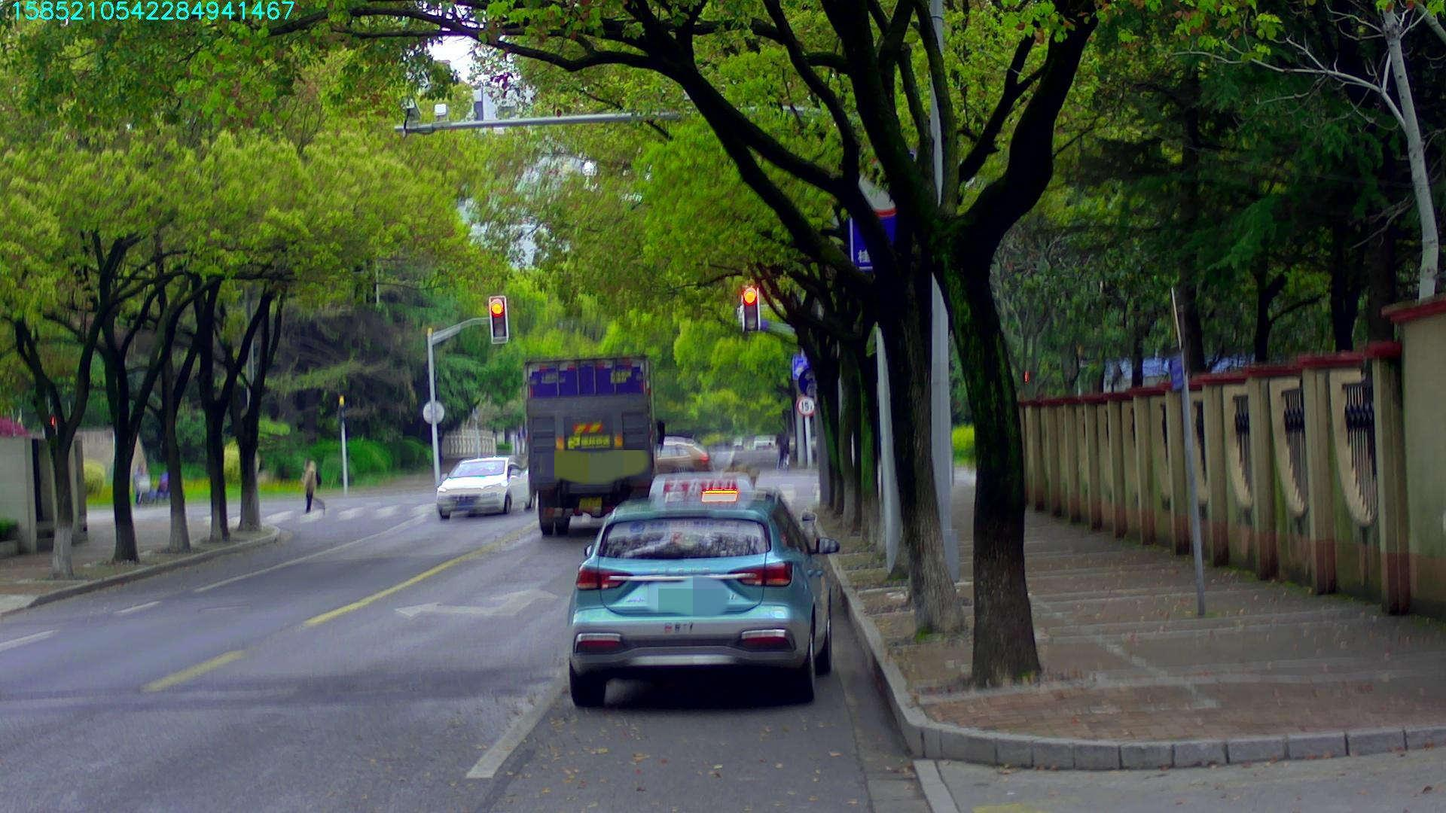red: (741, 287, 758, 330), (490, 295, 506, 339)
